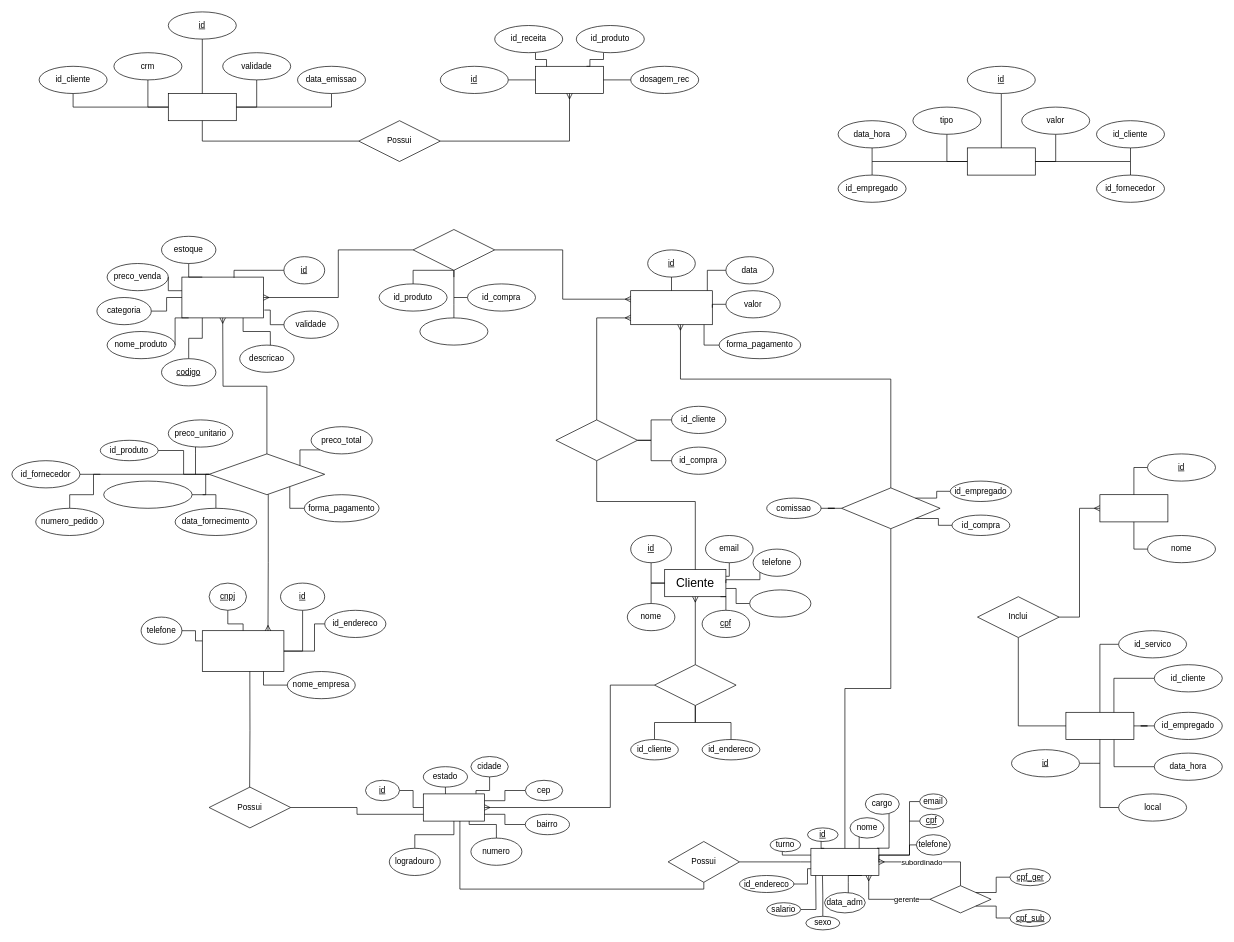
Image size: 1234x942. Some labels were removed from this diagram. Each missing label, with the box of its shape:
Agendamento: (1065, 712, 1134, 740)
cliente_compra: (555, 419, 638, 461)
cliente_endereco: (654, 664, 736, 706)
Compra: (630, 290, 712, 325)
compra_produto: (412, 229, 495, 270)
data_cadastro: (749, 589, 811, 617)
Empregado: (810, 848, 879, 876)
empregado_compra: (841, 487, 940, 529)
Endereço: (423, 793, 485, 821)
Fornecedor: (202, 630, 284, 672)
fornecedor_produto: (208, 453, 325, 495)
Gerencia: (929, 885, 991, 913)
Item Receita: (535, 66, 604, 94)
Produto: (181, 276, 264, 318)
quantidade: (419, 317, 488, 345)
quantidade_fornecida: (103, 480, 192, 508)
Receita Médica: (168, 93, 236, 121)
Serviço: (1099, 494, 1168, 522)
Transação Financeira: (967, 147, 1035, 175)
